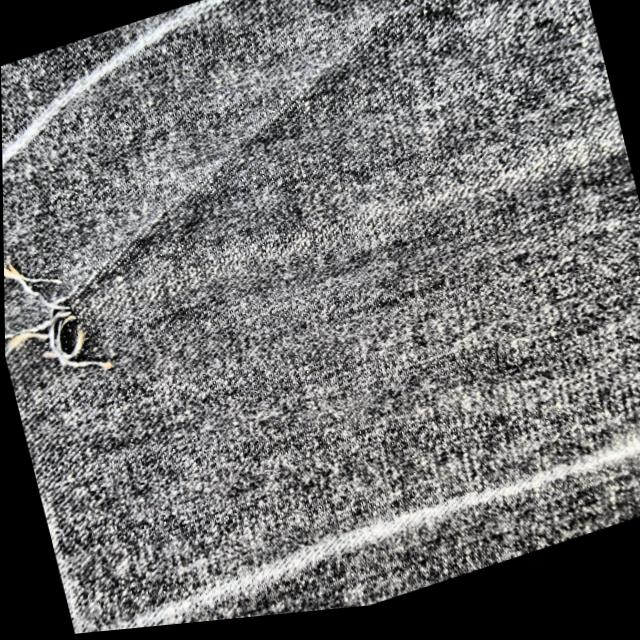Hole: (75, 129, 626, 326), (3, 267, 100, 368)
